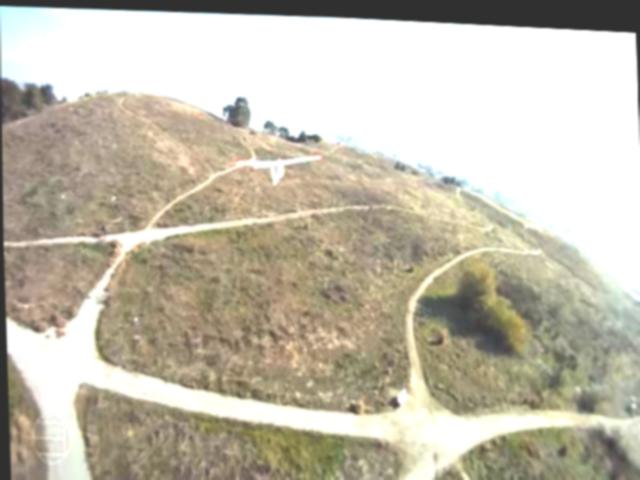uav: (232, 137, 327, 191)
